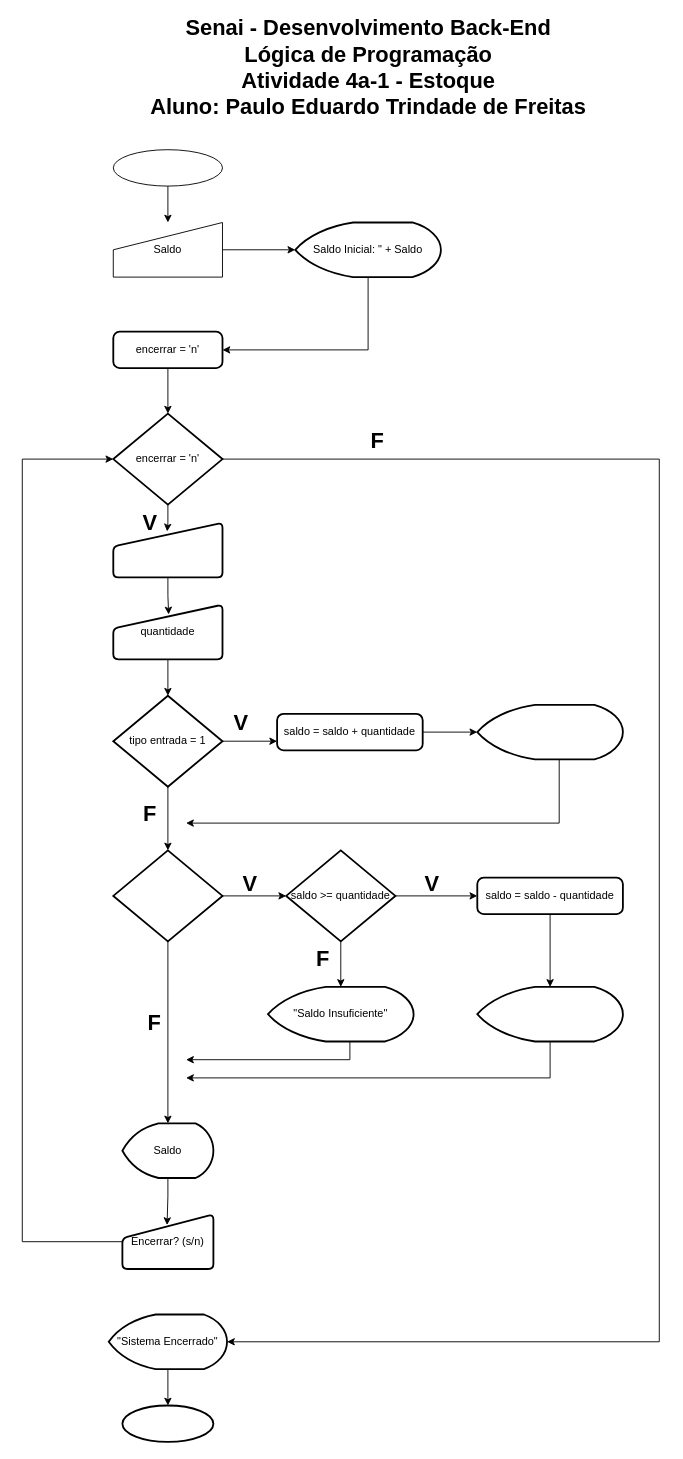
This 683x1459 diagram has some shape labels left out. The box of each missing label's shape, as (x1, y1, x2, y2) in pixels:
"Entrada: " + quantidade: (476, 703, 623, 760)
"Saida: " + quantidade: (476, 986, 623, 1042)
Fim: (121, 1404, 214, 1442)
INICIO: (112, 149, 222, 186)
tipo entrada: (112, 521, 223, 578)
tipo entrada = 2: (112, 849, 223, 942)
